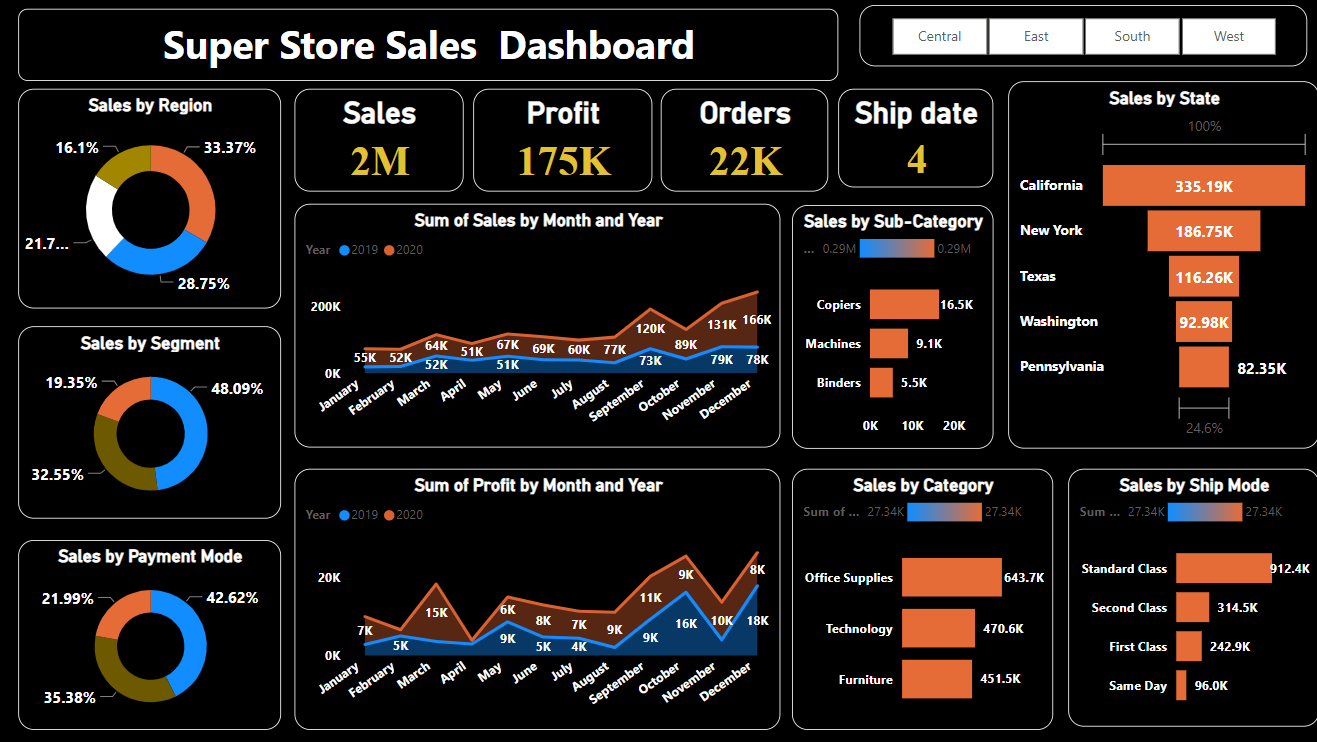

Layout of this report page (visuals, bound fields, positions):
{"tool":"powerbi","page":{"name":"Page 2","canvas":[1280,720],"ordinal":0},"visuals":[{"type":"clusteredBarChart","title":"Sales by Category","fields":{"Category":["Sheet1.Category"],"Y":["Sum(Sheet1.Sales)"]},"box":[767,452.3,252.1,252.1],"z":0},{"type":"clusteredBarChart","title":"Sales by Sub-Category","fields":{"Y":["Sum(Sheet1.Sales)"],"Category":["Sheet1.Sub-Category"]},"box":[767,197.8,194.2,235.2],"z":1000},{"type":"clusteredBarChart","title":"Sales by Ship Mode","fields":{"Category":["Sheet1.Ship Mode"],"Y":["Sum(Sheet1.Sales)"]},"box":[1033.6,452.3,242,248.4],"z":2000},{"type":"stackedAreaChart","fields":{"Y":["Sum(Sheet1.Sales)"],"Category":["Sheet1.Order Date.Variation.Date Hierarchy.Month","Sheet1.Order Date.Variation.Date Hierarchy.Day"],"Series":["Sheet1.Order Date.Variation.Date Hierarchy.Year"]},"box":[287,196.6,469.1,235.2],"z":3000},{"type":"stackedAreaChart","fields":{"Category":["Sheet1.Order Date.Variation.Date Hierarchy.Month","Sheet1.Order Date.Variation.Date Hierarchy.Day"],"Series":["Sheet1.Order Date.Variation.Date Hierarchy.Year"],"Y":["Sum(Sheet1.Profit)"]},"box":[287,452.3,469.1,252.1],"z":4000},{"type":"funnel","title":"Sales by State","fields":{"Category":["Sheet1.State"],"Y":["Sum(Sheet1.Sales)"]},"box":[975.7,78.4,300.3,354.6],"z":5000},{"type":"donutChart","title":"Sales by Segment","fields":{"Category":["Sheet1.Segment"],"Y":["Sum(Sheet1.Sales)"]},"box":[20.5,314.8,253.3,185.7],"z":6000},{"type":"donutChart","title":"Sales by Payment Mode","fields":{"Y":["Sum(Sheet1.Sales)"],"Category":["Sheet1.Payment Mode"]},"box":[20.5,521,253.3,183.3],"z":7000},{"type":"slicer","fields":{"Values":["Sheet1.Region"]},"box":[832.2,4.8,431.8,59.1],"z":8000},{"type":"card","title":" Sales","fields":{"Values":["Sum(Sheet1.Sales)"]},"box":[287,85.6,162.8,98.9],"z":9000},{"type":"card","title":"Profit","fields":{"Values":["Sum(Sheet1.Profit)"]},"box":[459.5,85.6,172.5,98.9],"z":10000},{"type":"card","title":"Ship date","fields":{"Values":["Avg(superSales.AvgDeli)"]},"box":[811.7,85.6,149.5,95.3],"z":11000},{"type":"card","title":"Orders","fields":{"Values":["Sum(superSales.Quantity)"]},"box":[640.4,85.6,161.6,98.9],"z":12000},{"type":"donutChart","title":"Sales by Region","fields":{"Category":["superSales.Region"],"Y":["Sum(Sheet1.Sales)"]},"box":[20.5,85.6,253.3,212.3],"z":13000},{"type":"textbox","box":[20.5,8.4,791.2,69.9],"z":14000}]}

Visuals, with their boxes in screenshot pixels (x1, y1, x2, y2), scaled from the page's 1280x720 canvas onto the 1317x742 screenshot:
"Sales by Category" clusteredBarChart: select_region(789, 466, 1049, 726)
"Sales by Sub-Category" clusteredBarChart: select_region(789, 204, 989, 446)
"Sales by Ship Mode" clusteredBarChart: select_region(1063, 466, 1312, 722)
stackedAreaChart - Sum(Sheet1.Sales) x Sheet1.Order Date.Variation.Date Hierarchy.Month: select_region(295, 203, 778, 445)
stackedAreaChart - Sheet1.Order Date.Variation.Date Hierarchy.Month x Sheet1.Order Date.Variation.Date Hierarchy.Day: select_region(295, 466, 778, 726)
"Sales by State" funnel: select_region(1004, 81, 1313, 446)
"Sales by Segment" donutChart: select_region(21, 324, 282, 516)
"Sales by Payment Mode" donutChart: select_region(21, 537, 282, 726)
slicer - Sheet1.Region: select_region(856, 5, 1301, 66)
" Sales" card: select_region(295, 88, 463, 190)
"Profit" card: select_region(473, 88, 650, 190)
"Ship date" card: select_region(835, 88, 989, 186)
"Orders" card: select_region(659, 88, 825, 190)
"Sales by Region" donutChart: select_region(21, 88, 282, 307)
textbox: select_region(21, 9, 835, 81)
